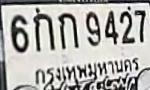2: (119, 10, 134, 43)
4: (104, 10, 117, 44)
6: (10, 13, 28, 52)
7: (134, 9, 145, 41)
9: (85, 11, 100, 45)
A01: (32, 11, 54, 51), (57, 12, 78, 48)
BKK: (32, 54, 143, 87)
